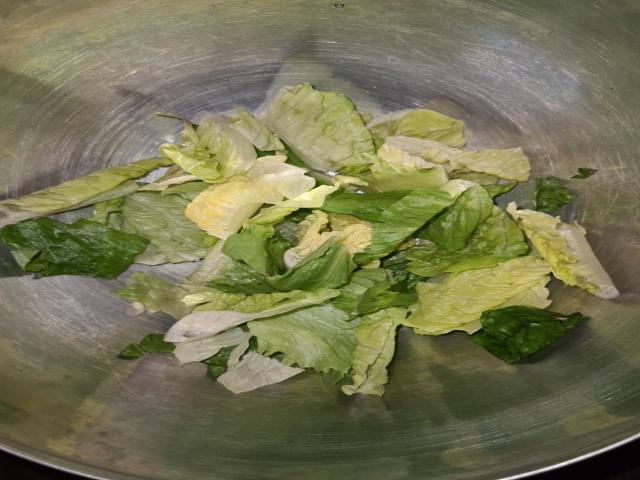kichen waste: (1, 88, 618, 394)
